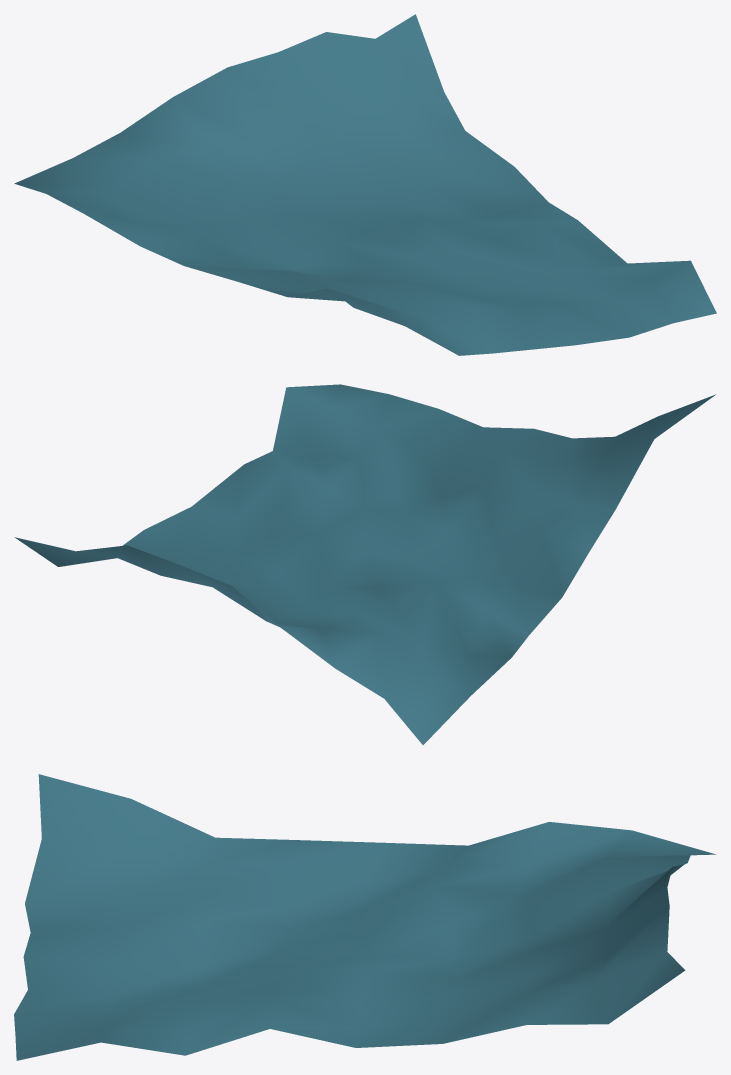
File: SM_SmallTrashkit_Paper_002.fbx
3 renders of one model, top to bottom at view 1: azimuth 30°, elevation 25°; view 2: azimuth 150°, elevation 25°; view 3: azimuth 270°, elevation 25°, orthographic. The views are drawn at different scales.
Visible parts, largest first — view 1: SM_SmallTrashkit_Paper_002; view 2: SM_SmallTrashkit_Paper_002; view 3: SM_SmallTrashkit_Paper_002.
Boxes of the visible parts, box(x1,y1,x2,y2) form: SM_SmallTrashkit_Paper_002: box(14, 14, 716, 355); SM_SmallTrashkit_Paper_002: box(14, 384, 716, 744); SM_SmallTrashkit_Paper_002: box(14, 774, 716, 1060).
Bounding box in the file's own units: 40.88 × 9.24 × 54.85.
